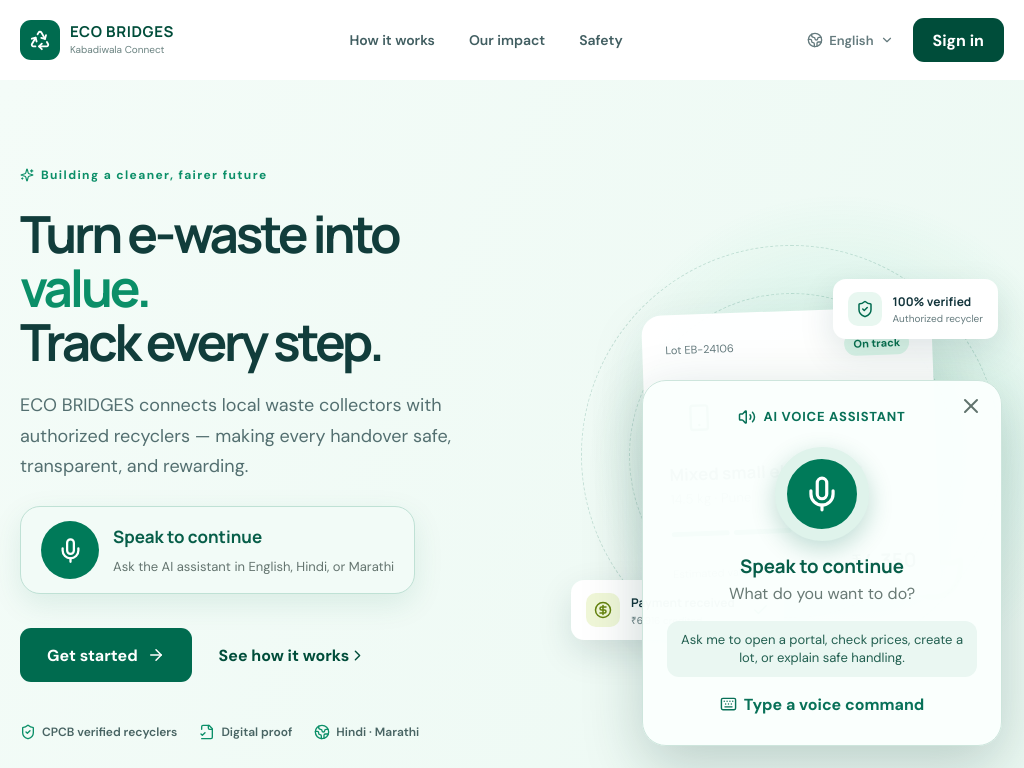
it: language switching › switches the whole interface to Hindi
The image size is (1024, 768).
Click the button with aria-label "change language": (850, 40) [798,24,902,56]
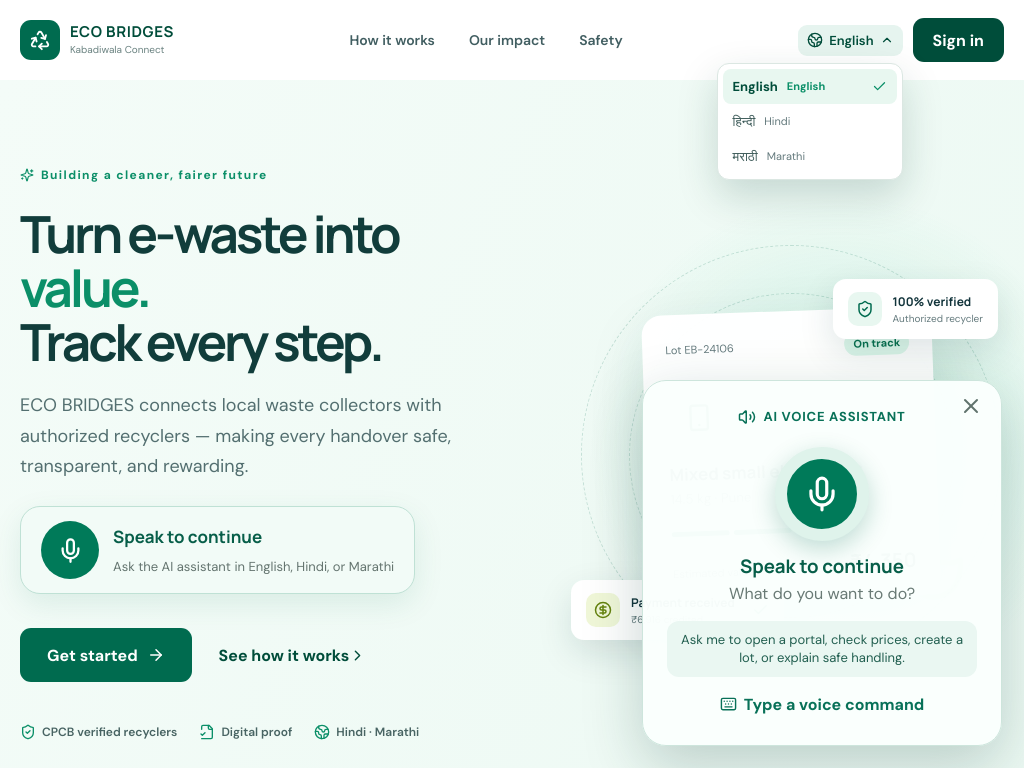
Click the option "हिन्दी Hindi": (810, 121) [722,104,896,138]
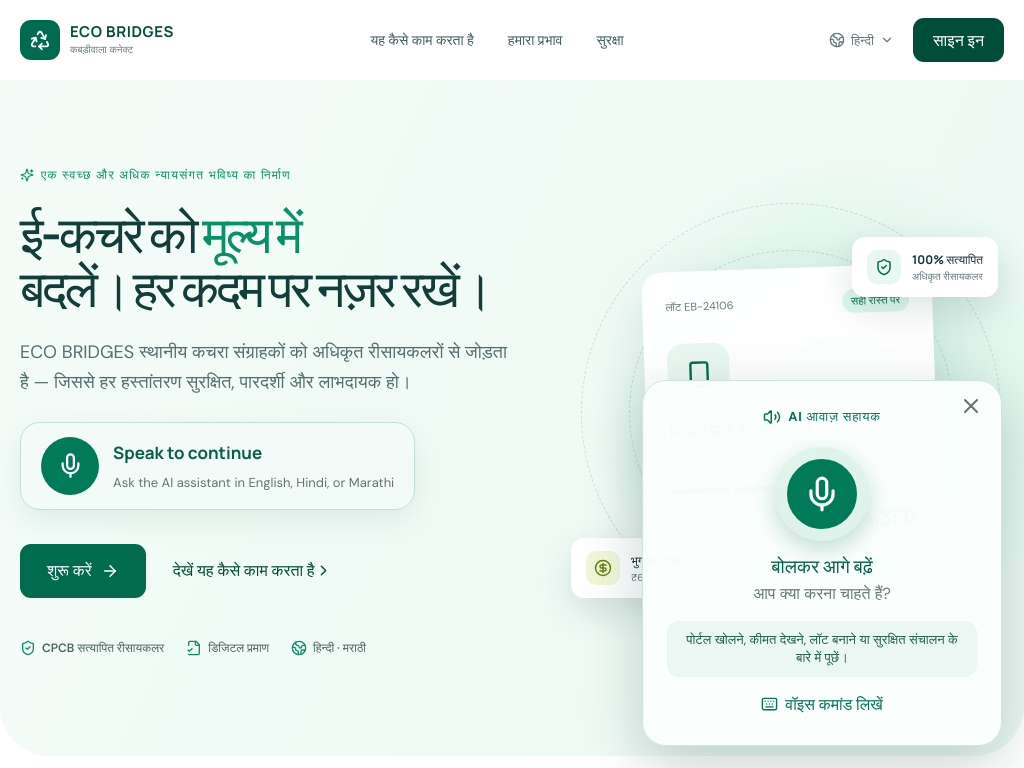
expect the heading named "ई-कचरे को मूल्य में बदलें" is shown: met, box [20,207,509,314]
expect the button "साइन इन" is shown: met, box [913,18,1004,62]
expect the text "स्थानीय कचरा संग्राहकों" is shown: met, box [20,340,507,394]
